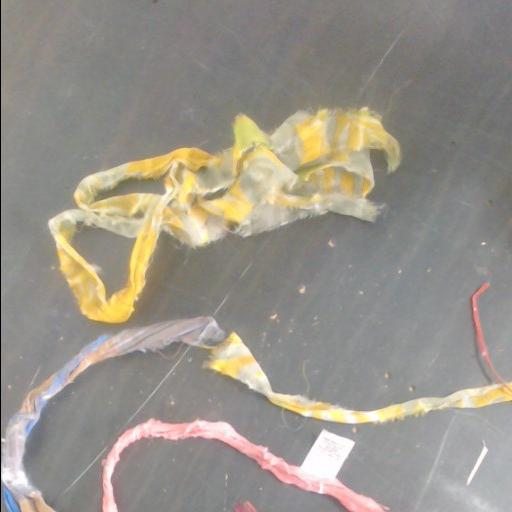cloth: (1, 316, 512, 511), (49, 107, 400, 322), (102, 419, 386, 511)
conveyor belt: (1, 0, 512, 426), (25, 344, 512, 511), (114, 440, 345, 511), (73, 225, 133, 294), (135, 234, 183, 313), (100, 177, 163, 198)
thread: (471, 283, 504, 383), (466, 441, 487, 484), (234, 501, 256, 511)
